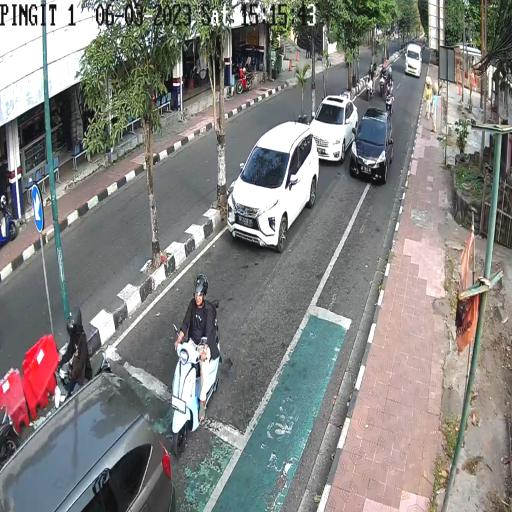mobil: (228, 117, 318, 251), (350, 107, 394, 187), (310, 93, 358, 163), (405, 42, 422, 80)
motor: (167, 325, 223, 463), (51, 346, 117, 421), (384, 90, 396, 120), (364, 72, 375, 102), (378, 71, 385, 95)
